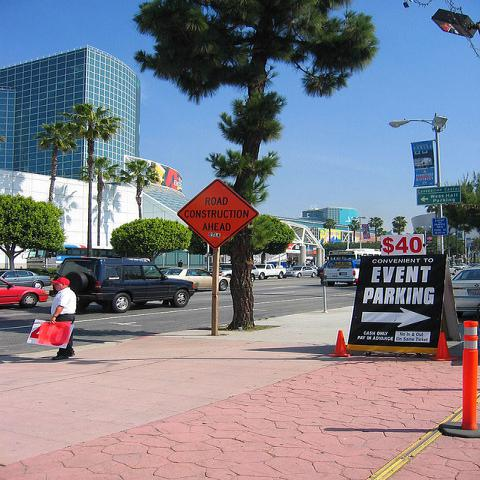bus: (26, 245, 88, 271), (329, 250, 381, 260)
car: (56, 258, 195, 312), (166, 267, 232, 291), (0, 277, 50, 308), (454, 268, 479, 312), (0, 271, 52, 289), (219, 264, 259, 283), (255, 264, 286, 280), (283, 265, 318, 279)
truck: (53, 257, 196, 313), (324, 258, 361, 286)
